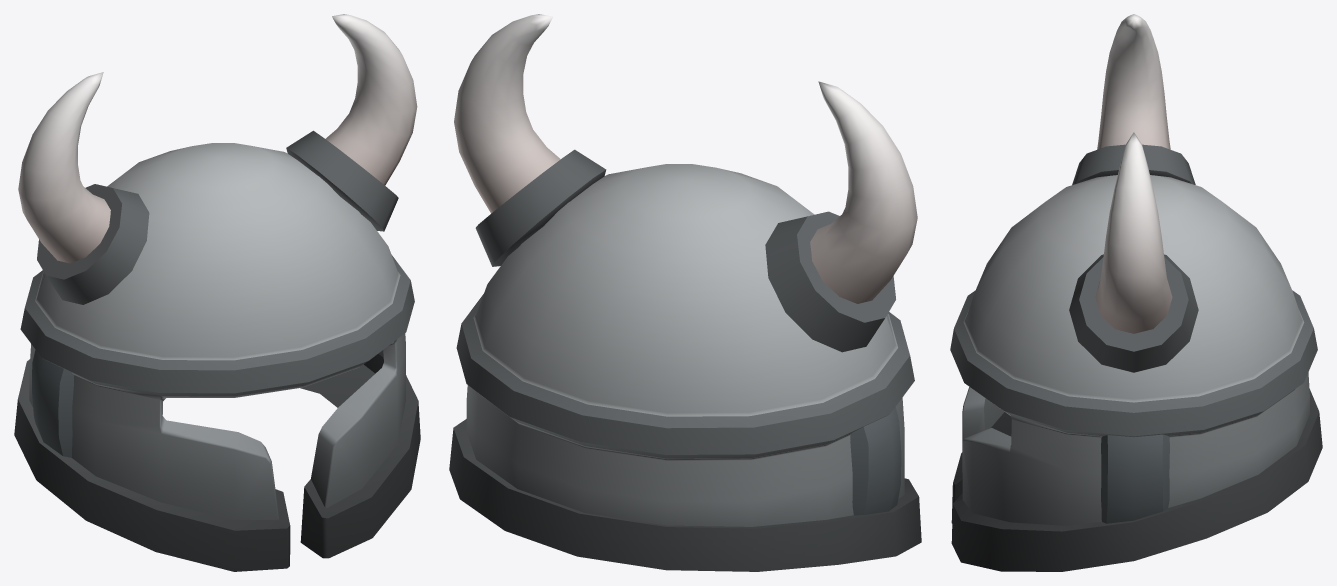
The model's file is Costume_9_02.glb.
3 views of the same model, side by side, from view 1: azimuth 30°, elevation 25°; view 2: azimuth 150°, elevation 25°; view 3: azimuth 270°, elevation 25° (orthographic). The views are drawn at different scales.
Parts seen in each view (by area): view 1: Costume_9_02; view 2: Costume_9_02; view 3: Costume_9_02.
Part boxes in pixels (bbox=[...]): Costume_9_02: bbox=[14, 14, 420, 571]; Costume_9_02: bbox=[449, 14, 921, 571]; Costume_9_02: bbox=[950, 14, 1322, 571].
Bounding box in the file's own units: 0.7279 × 0.8067 × 0.5951.
Materials: 1 (1 with a texture image).
